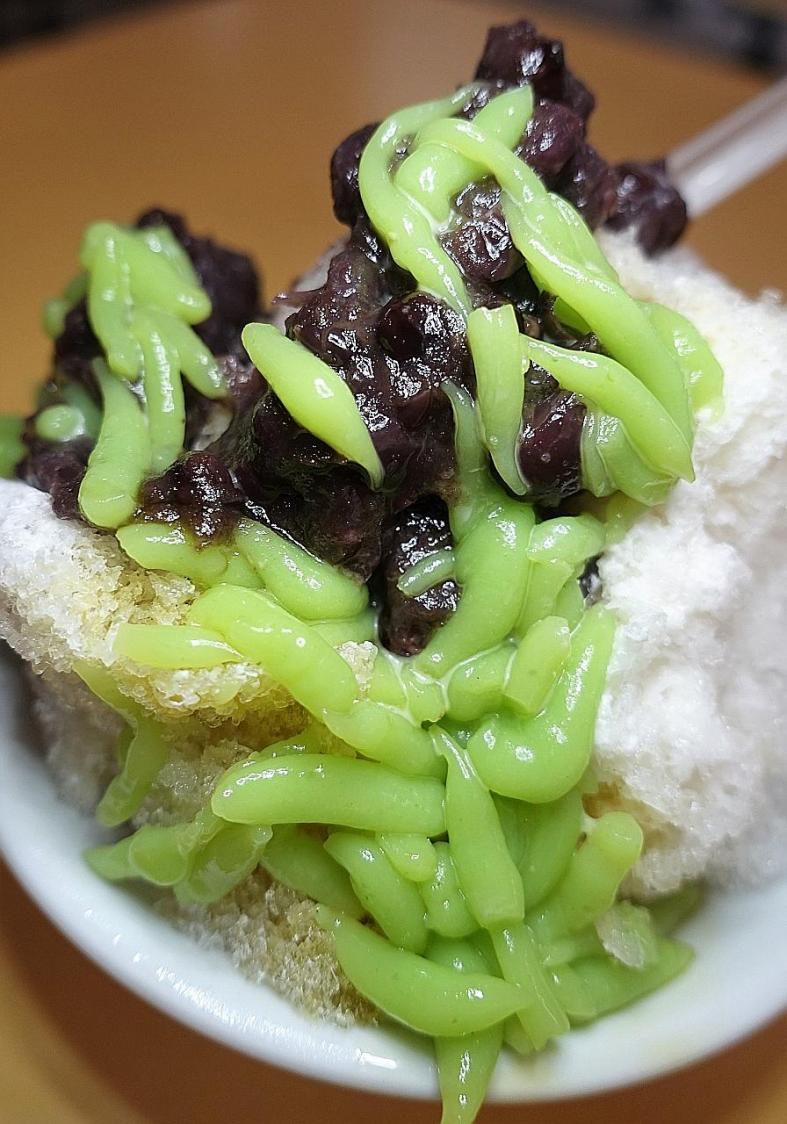Chendol: (55, 125, 786, 997)
